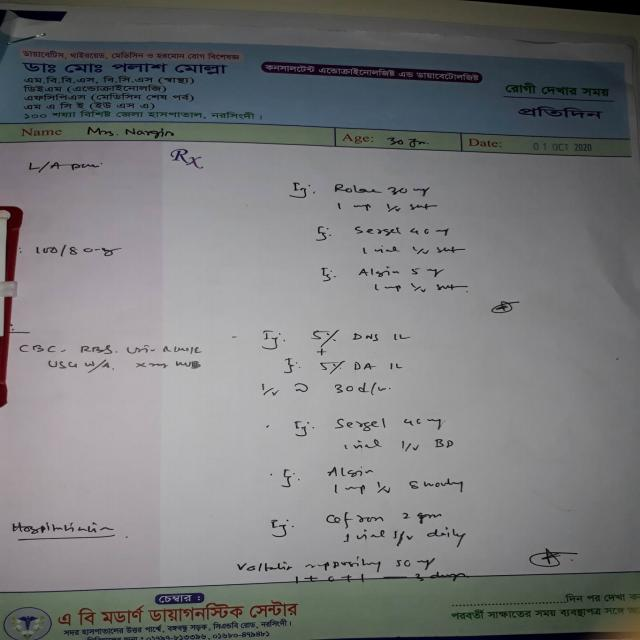Algin: (322, 463, 378, 481), (353, 264, 406, 280)
Cefrox: (322, 509, 391, 529)
DA: (349, 358, 377, 373)
DNS: (346, 330, 386, 346)
Rolac: (328, 179, 386, 201)
Sergel: (327, 414, 391, 434), (350, 222, 408, 240)
